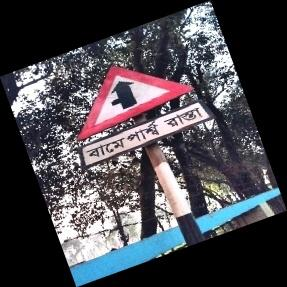Side-road-left: (76, 64, 212, 175)
